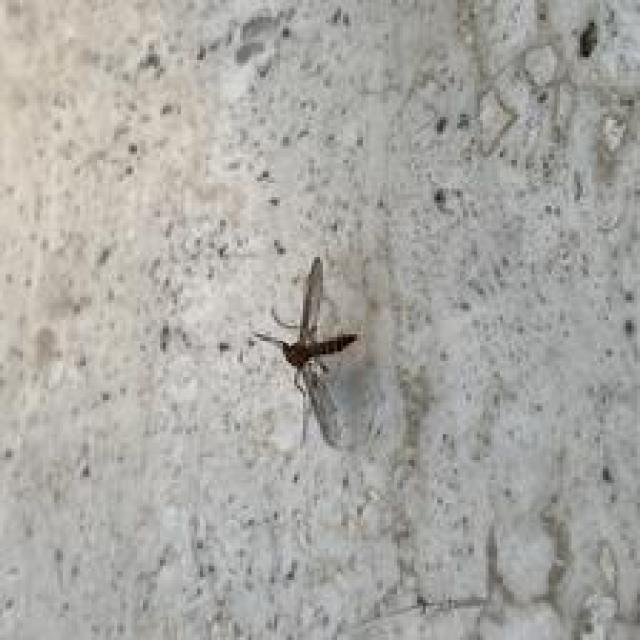Culex: (250, 254, 361, 449)
